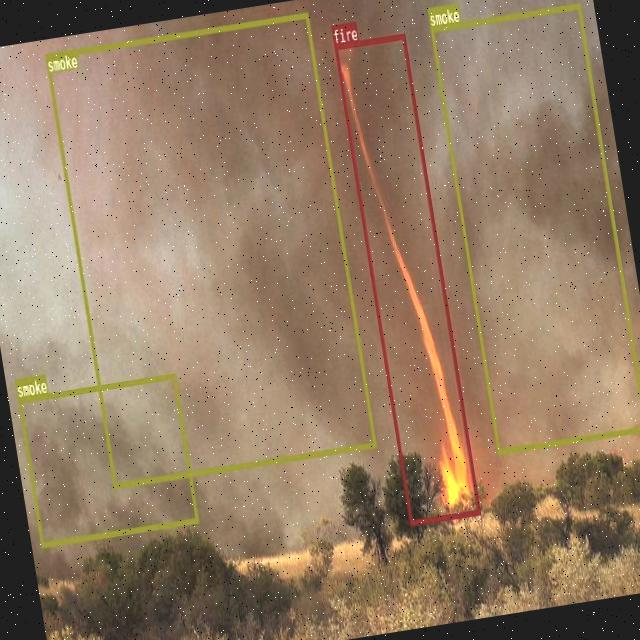fire: (334, 33, 481, 524)
smoke: (44, 12, 376, 488), (430, 2, 640, 453), (18, 373, 199, 547)
